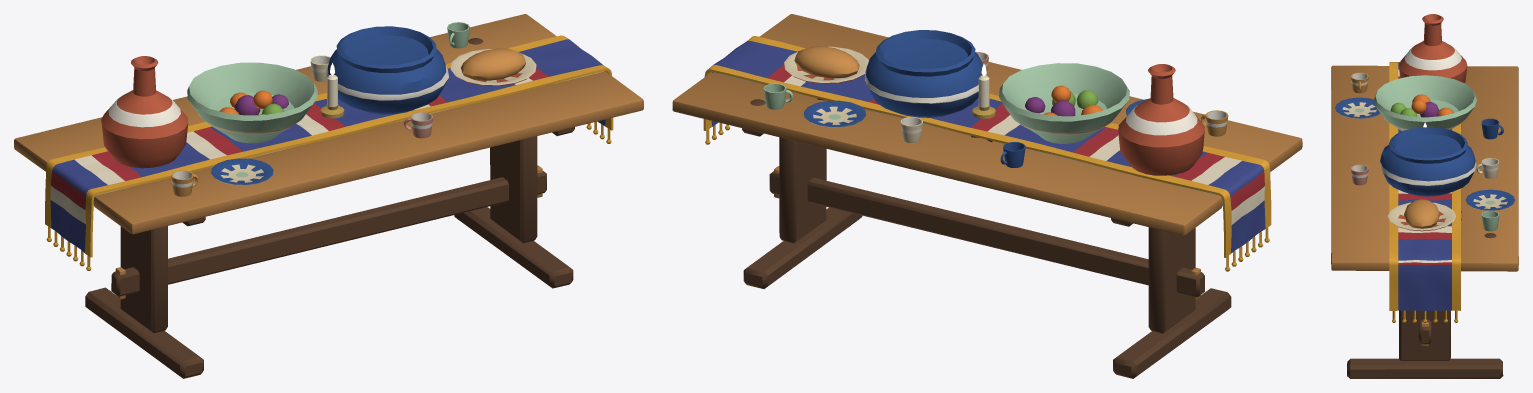
The model's file is deco_table_dining.fbx.
The picture shows the model from 3 angles, left to right: view 1: azimuth 30°, elevation 25°; view 2: azimuth 150°, elevation 25°; view 3: azimuth 270°, elevation 25°; orthographic projection. The views are drawn at different scales.
Visible parts, largest first — view 1: Table_Dining_Top, Table_Dining_Bowls, Table_Dining_Trestles, Table_Dining_Runner; view 2: Table_Dining_Bowls, Table_Dining_Top, Table_Dining_Trestles, Table_Dining_Runner; view 3: Table_Dining_Top, Table_Dining_Bowls, Table_Dining_Runner, Table_Dining_Trestles.
Part boxes in pixels (<box>): Table_Dining_Top: <box>14,14,643,234</box>; Table_Dining_Bowls: <box>101,22,536,196</box>; Table_Dining_Trestles: <box>85,127,574,378</box>; Table_Dining_Runner: <box>45,35,613,270</box>; Table_Dining_Bowls: <box>763,30,1228,175</box>; Table_Dining_Top: <box>672,14,1302,235</box>; Table_Dining_Trestles: <box>742,128,1231,378</box>; Table_Dining_Runner: <box>703,36,1271,271</box>; Table_Dining_Top: <box>1331,65,1518,271</box>; Table_Dining_Bowls: <box>1335,14,1515,231</box>; Table_Dining_Runner: <box>1389,62,1460,322</box>; Table_Dining_Trestles: <box>1347,310,1503,378</box>.
Size of the model in its own units: 307 by 155 by 121.
